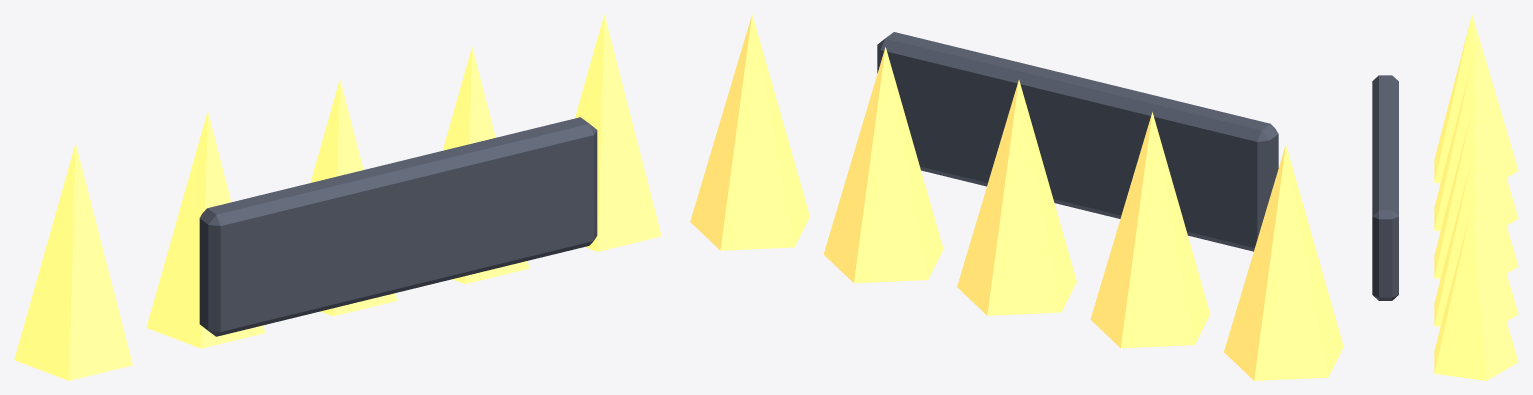
Rendered from energy_spikes.glb.
The picture shows the model from 3 angles, left to right: view 1: azimuth 30°, elevation 25°; view 2: azimuth 150°, elevation 25°; view 3: azimuth 270°, elevation 25°; orthographic projection. The views are drawn at different scales.
Parts seen in each view (by area): view 1: energy_spikes; view 2: energy_spikes; view 3: energy_spikes.
Boxes of the visible parts, x1,y1,x2,y2 form: energy_spikes: [14, 14, 661, 380]; energy_spikes: [690, 14, 1343, 380]; energy_spikes: [1372, 14, 1518, 380].
Bounding box in the file's own units: 1.63 × 0.52 × 0.44.
